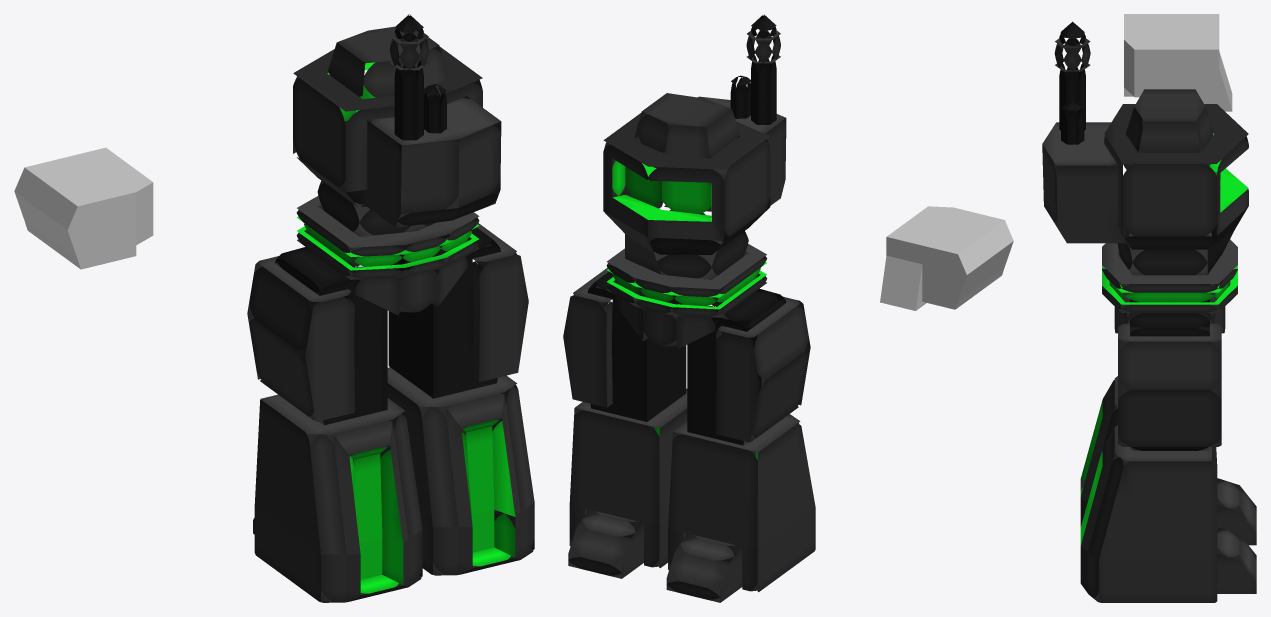
The model's file is RadioVillain_Body.obj.
The picture shows the model from 3 angles, left to right: view 1: azimuth 30°, elevation 25°; view 2: azimuth 150°, elevation 25°; view 3: azimuth 270°, elevation 25°; orthographic projection. The views are drawn at different scales.
Visible parts, largest first — view 1: Shin, Thigh, Body, cuboid, Pelvis, cylinder; view 2: Shin, Thigh, Body, cuboid, Pelvis, Toe, cylinder; view 3: Body, Shin, Thigh, cuboid, Pelvis, Toe, cylinder.
Part boxes in pixels (x1=…): Shin: x1=254, y1=367, x2=534, y2=602; Thigh: x1=247, y1=223, x2=528, y2=425; Body: x1=293, y1=26, x2=501, y2=236; cuboid: x1=14, y1=147, x2=153, y2=269; Pelvis: x1=296, y1=196, x2=479, y2=315; cylinder: x1=389, y1=14, x2=446, y2=150; Shin: x1=569, y1=388, x2=815, y2=592; Thigh: x1=563, y1=268, x2=810, y2=445; Body: x1=603, y1=93, x2=786, y2=279; cuboid: x1=880, y1=206, x2=1013, y2=310; Pelvis: x1=606, y1=244, x2=767, y2=348; Toe: x1=568, y1=510, x2=742, y2=602; cylinder: x1=730, y1=14, x2=780, y2=137; Body: x1=1042, y1=89, x2=1248, y2=275; Shin: x1=1080, y1=376, x2=1217, y2=602; Thigh: x1=1118, y1=284, x2=1221, y2=450; cuboid: x1=1124, y1=14, x2=1232, y2=111; Pelvis: x1=1102, y1=232, x2=1237, y2=333; Toe: x1=1217, y1=478, x2=1256, y2=593; cylinder: x1=1054, y1=21, x2=1090, y2=144.
Bounding box in the file's own units: 1.12 × 1.36 × 0.5098.
2 materials, 1 textured.
